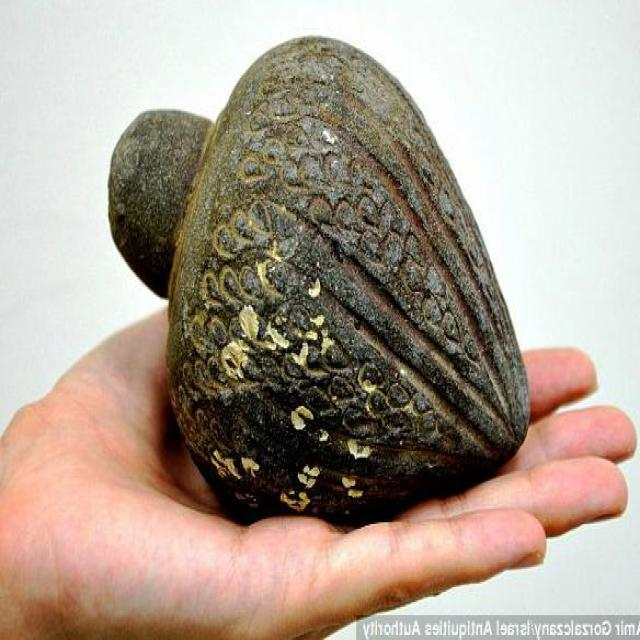grenade: (108, 33, 528, 526)
